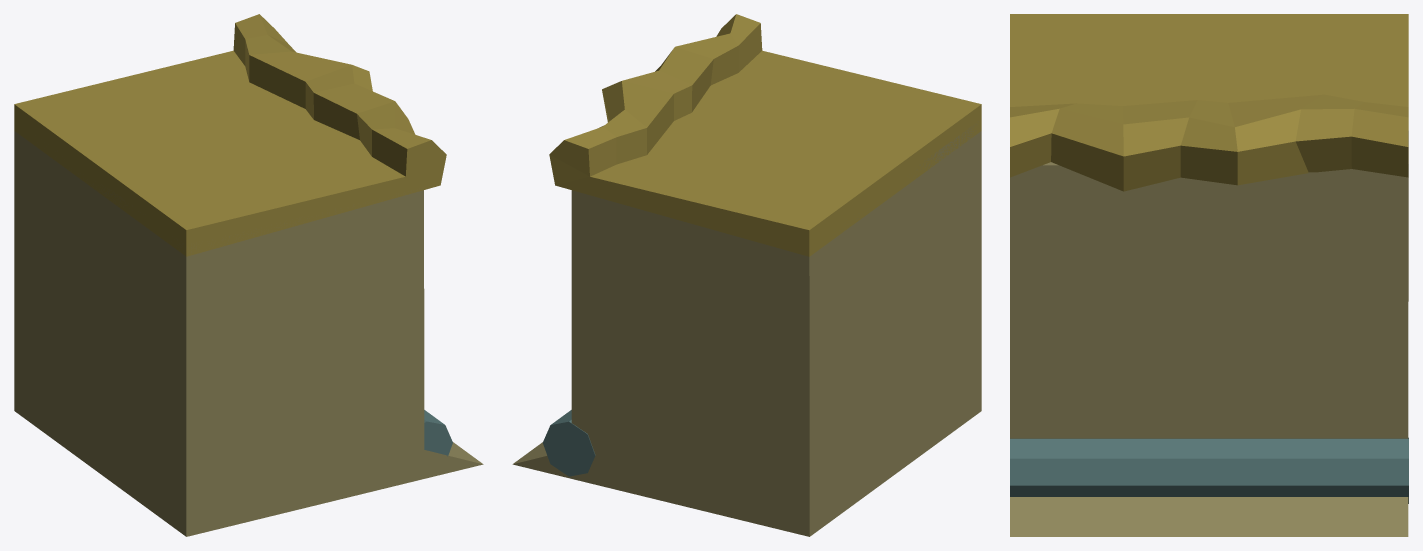
The model's file is Int_8_Wall_Vert_Right_Block.fbx.
The picture shows the model from 3 angles, left to right: view 1: azimuth 30°, elevation 25°; view 2: azimuth 150°, elevation 25°; view 3: azimuth 270°, elevation 25°; orthographic projection. The views are drawn at different scales.
Visible parts, largest first — view 1: Int_8_Wall_Vert_Right_Block1; view 2: Int_8_Wall_Vert_Right_Block1; view 3: Int_8_Wall_Vert_Right_Block1.
Part boxes in pixels (box(x1,y1,x2,y2)): Int_8_Wall_Vert_Right_Block1: box(14, 14, 483, 536); Int_8_Wall_Vert_Right_Block1: box(512, 14, 981, 536); Int_8_Wall_Vert_Right_Block1: box(1010, 14, 1408, 536).
Size of the model in its own units: 0.9955 by 1.08 by 0.999.
